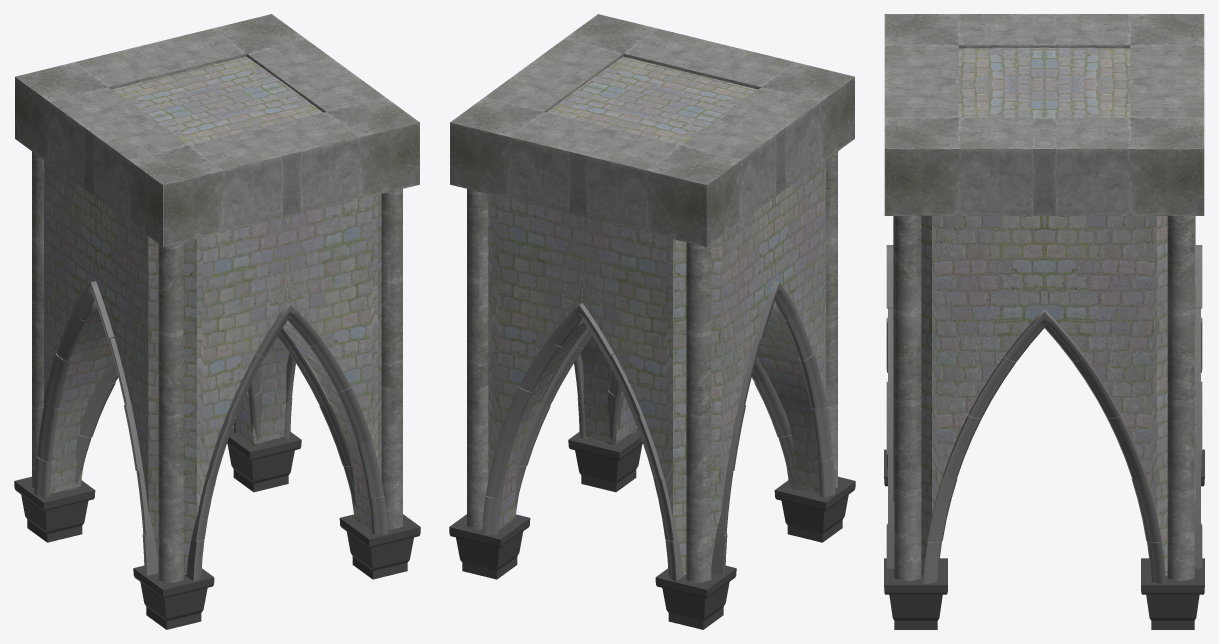
File: SM_vault_02.fbx
3 renders of one model, left to right at view 1: azimuth 30°, elevation 25°; view 2: azimuth 150°, elevation 25°; view 3: azimuth 270°, elevation 25°, orthographic. The views are drawn at different scales.
Visible parts, largest first — view 1: DarkFantasyObject39; view 2: DarkFantasyObject39; view 3: DarkFantasyObject39.
Boxes of the visible parts, left/top/right/bottom form: DarkFantasyObject39: left=14, top=14, right=420, bottom=629; DarkFantasyObject39: left=449, top=14, right=855, bottom=629; DarkFantasyObject39: left=884, top=14, right=1204, bottom=629.
Size of the model in its own units: 231 by 386 by 231.
